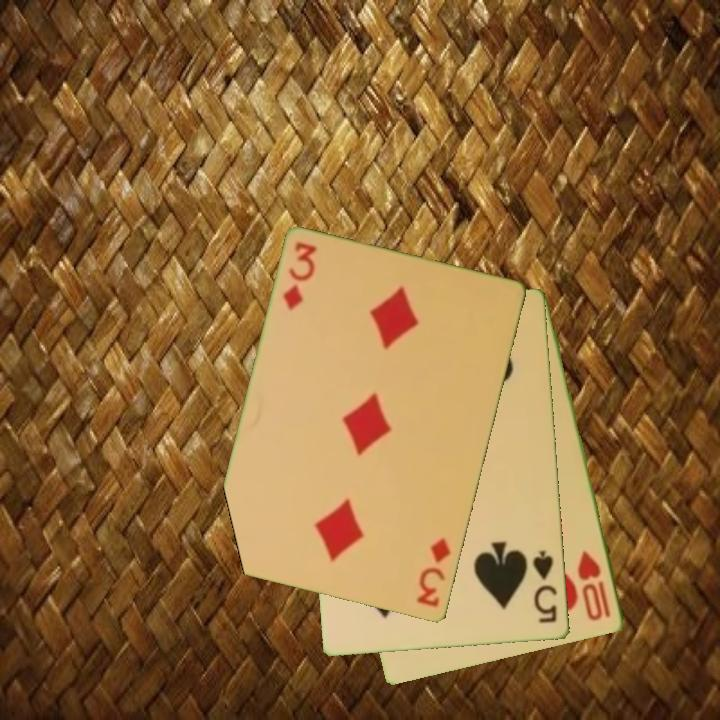10h: (574, 548, 614, 624)
3d: (279, 239, 321, 314), (414, 534, 454, 611)
5s: (529, 547, 561, 627)
